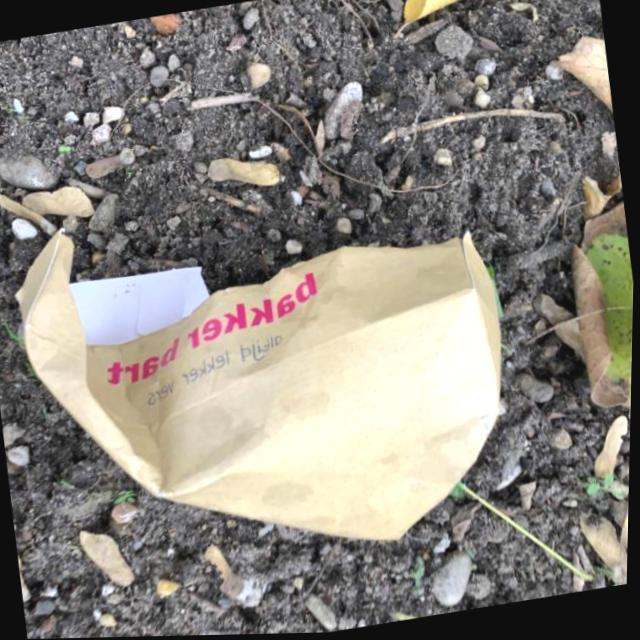Paper: (0, 152, 538, 603)
